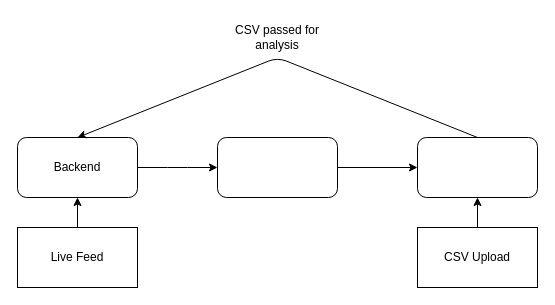
This 555x305 diagram has some shape labels left out. The centre of each missing label's shape, as x and y in pixels:
"Database" goes at [277,167].
"Frontend Web Application" goes at [477,167].
